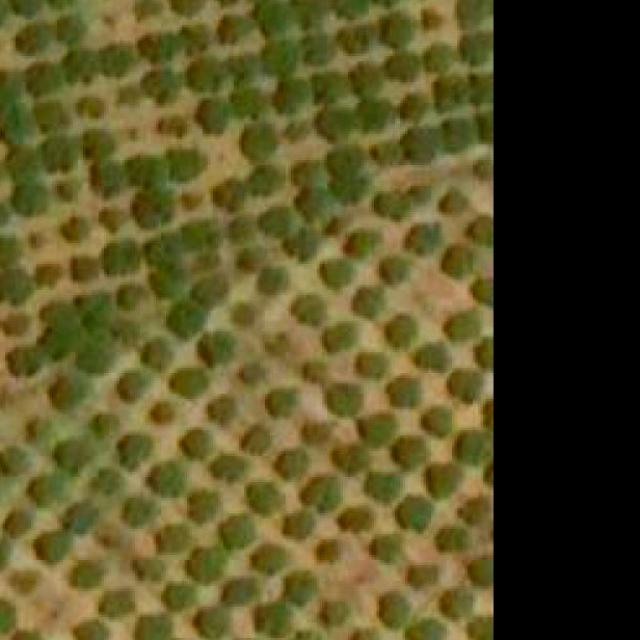Tree: (36, 303, 78, 357), (70, 288, 118, 328), (75, 331, 114, 373), (166, 147, 211, 182), (130, 191, 171, 228), (137, 66, 177, 103), (145, 464, 185, 501), (0, 345, 42, 379), (88, 165, 128, 200), (364, 470, 405, 504), (325, 383, 362, 420), (195, 98, 230, 137), (185, 56, 221, 93), (239, 127, 278, 161), (49, 376, 88, 410), (444, 368, 483, 402), (358, 412, 395, 447), (24, 64, 60, 99), (434, 75, 469, 111), (13, 184, 50, 218), (384, 376, 421, 410), (455, 430, 489, 467), (114, 433, 149, 468), (382, 12, 417, 47), (135, 32, 175, 62), (187, 550, 227, 580), (104, 241, 138, 275), (13, 23, 50, 54), (247, 480, 284, 511), (55, 438, 86, 475), (249, 544, 284, 576), (149, 267, 185, 298), (192, 276, 229, 306), (197, 332, 234, 362), (352, 61, 382, 98), (263, 40, 297, 72), (216, 516, 250, 548), (65, 51, 100, 82), (228, 85, 263, 116), (62, 503, 97, 534), (356, 101, 391, 132), (426, 464, 457, 499), (304, 477, 339, 508), (99, 44, 135, 74), (395, 498, 431, 528), (445, 310, 481, 340), (284, 228, 320, 258), (0, 269, 31, 303), (78, 129, 112, 160), (128, 155, 162, 186), (180, 428, 214, 459), (29, 475, 63, 506), (390, 441, 424, 472), (442, 118, 472, 153), (372, 534, 408, 563), (338, 25, 374, 54), (166, 306, 203, 334), (154, 524, 188, 554), (424, 42, 458, 72), (254, 266, 289, 295), (171, 368, 206, 397), (384, 51, 419, 80), (288, 0, 327, 26), (0, 105, 28, 141), (148, 233, 180, 264), (377, 594, 408, 626), (237, 425, 271, 454), (296, 186, 325, 220), (293, 293, 322, 327), (457, 0, 492, 28), (99, 589, 130, 620), (178, 20, 208, 51), (406, 129, 436, 160), (384, 316, 414, 347), (421, 408, 452, 438), (442, 589, 472, 620), (457, 494, 488, 524), (461, 34, 492, 64), (34, 534, 66, 563), (252, 0, 280, 33), (265, 386, 291, 421), (40, 140, 70, 170), (140, 338, 170, 368), (120, 496, 150, 526), (90, 466, 120, 496), (260, 207, 291, 236), (206, 394, 237, 423), (353, 288, 382, 319), (332, 446, 363, 475), (410, 345, 447, 369), (135, 614, 169, 640), (215, 14, 244, 44), (187, 488, 216, 518), (258, 607, 288, 636), (286, 574, 315, 604), (280, 510, 310, 539), (215, 181, 244, 210), (132, 555, 161, 584), (443, 245, 472, 274), (406, 228, 436, 256), (353, 352, 388, 376), (434, 524, 466, 550), (407, 619, 446, 640), (276, 79, 304, 108), (317, 114, 346, 142), (185, 222, 216, 248), (196, 610, 227, 636), (374, 189, 400, 220), (54, 14, 83, 40), (36, 100, 62, 129), (163, 584, 192, 610), (328, 150, 357, 176), (348, 230, 377, 256), (312, 537, 341, 563), (343, 506, 372, 532), (76, 96, 107, 120), (470, 75, 494, 106), (224, 578, 252, 604), (304, 36, 330, 64), (332, 176, 358, 204), (298, 419, 327, 444), (468, 217, 493, 246), (128, 0, 164, 20), (438, 189, 468, 213), (71, 565, 105, 586), (226, 304, 254, 329), (8, 150, 34, 176), (60, 217, 86, 243), (34, 262, 60, 288), (148, 399, 174, 425), (10, 568, 36, 594), (322, 326, 348, 352), (252, 168, 280, 192), (21, 419, 47, 444), (291, 163, 317, 187), (226, 54, 252, 78), (237, 248, 263, 272), (265, 332, 289, 358), (216, 454, 240, 480), (320, 600, 344, 626), (317, 75, 341, 101), (322, 258, 348, 282), (379, 258, 403, 284), (400, 96, 426, 120), (302, 360, 328, 384), (408, 563, 434, 587), (468, 555, 492, 581), (371, 142, 400, 163), (332, 0, 369, 16), (73, 619, 101, 640), (228, 217, 252, 241), (120, 373, 144, 397), (5, 511, 29, 535), (239, 362, 265, 383), (276, 454, 302, 475), (475, 338, 493, 368), (472, 280, 493, 304), (161, 115, 187, 134), (122, 284, 144, 306), (0, 600, 16, 630), (3, 314, 27, 334), (284, 121, 310, 139), (0, 235, 16, 264), (0, 72, 16, 100), (0, 448, 21, 469), (73, 256, 91, 280), (99, 209, 122, 227), (92, 415, 115, 433), (169, 0, 203, 12), (346, 627, 377, 640), (114, 87, 135, 106), (424, 9, 445, 28), (55, 181, 76, 199), (473, 158, 491, 179), (478, 114, 491, 142), (476, 617, 491, 640), (0, 539, 10, 570), (29, 233, 45, 248), (15, 0, 41, 9), (49, 0, 78, 7), (208, 0, 237, 5)
